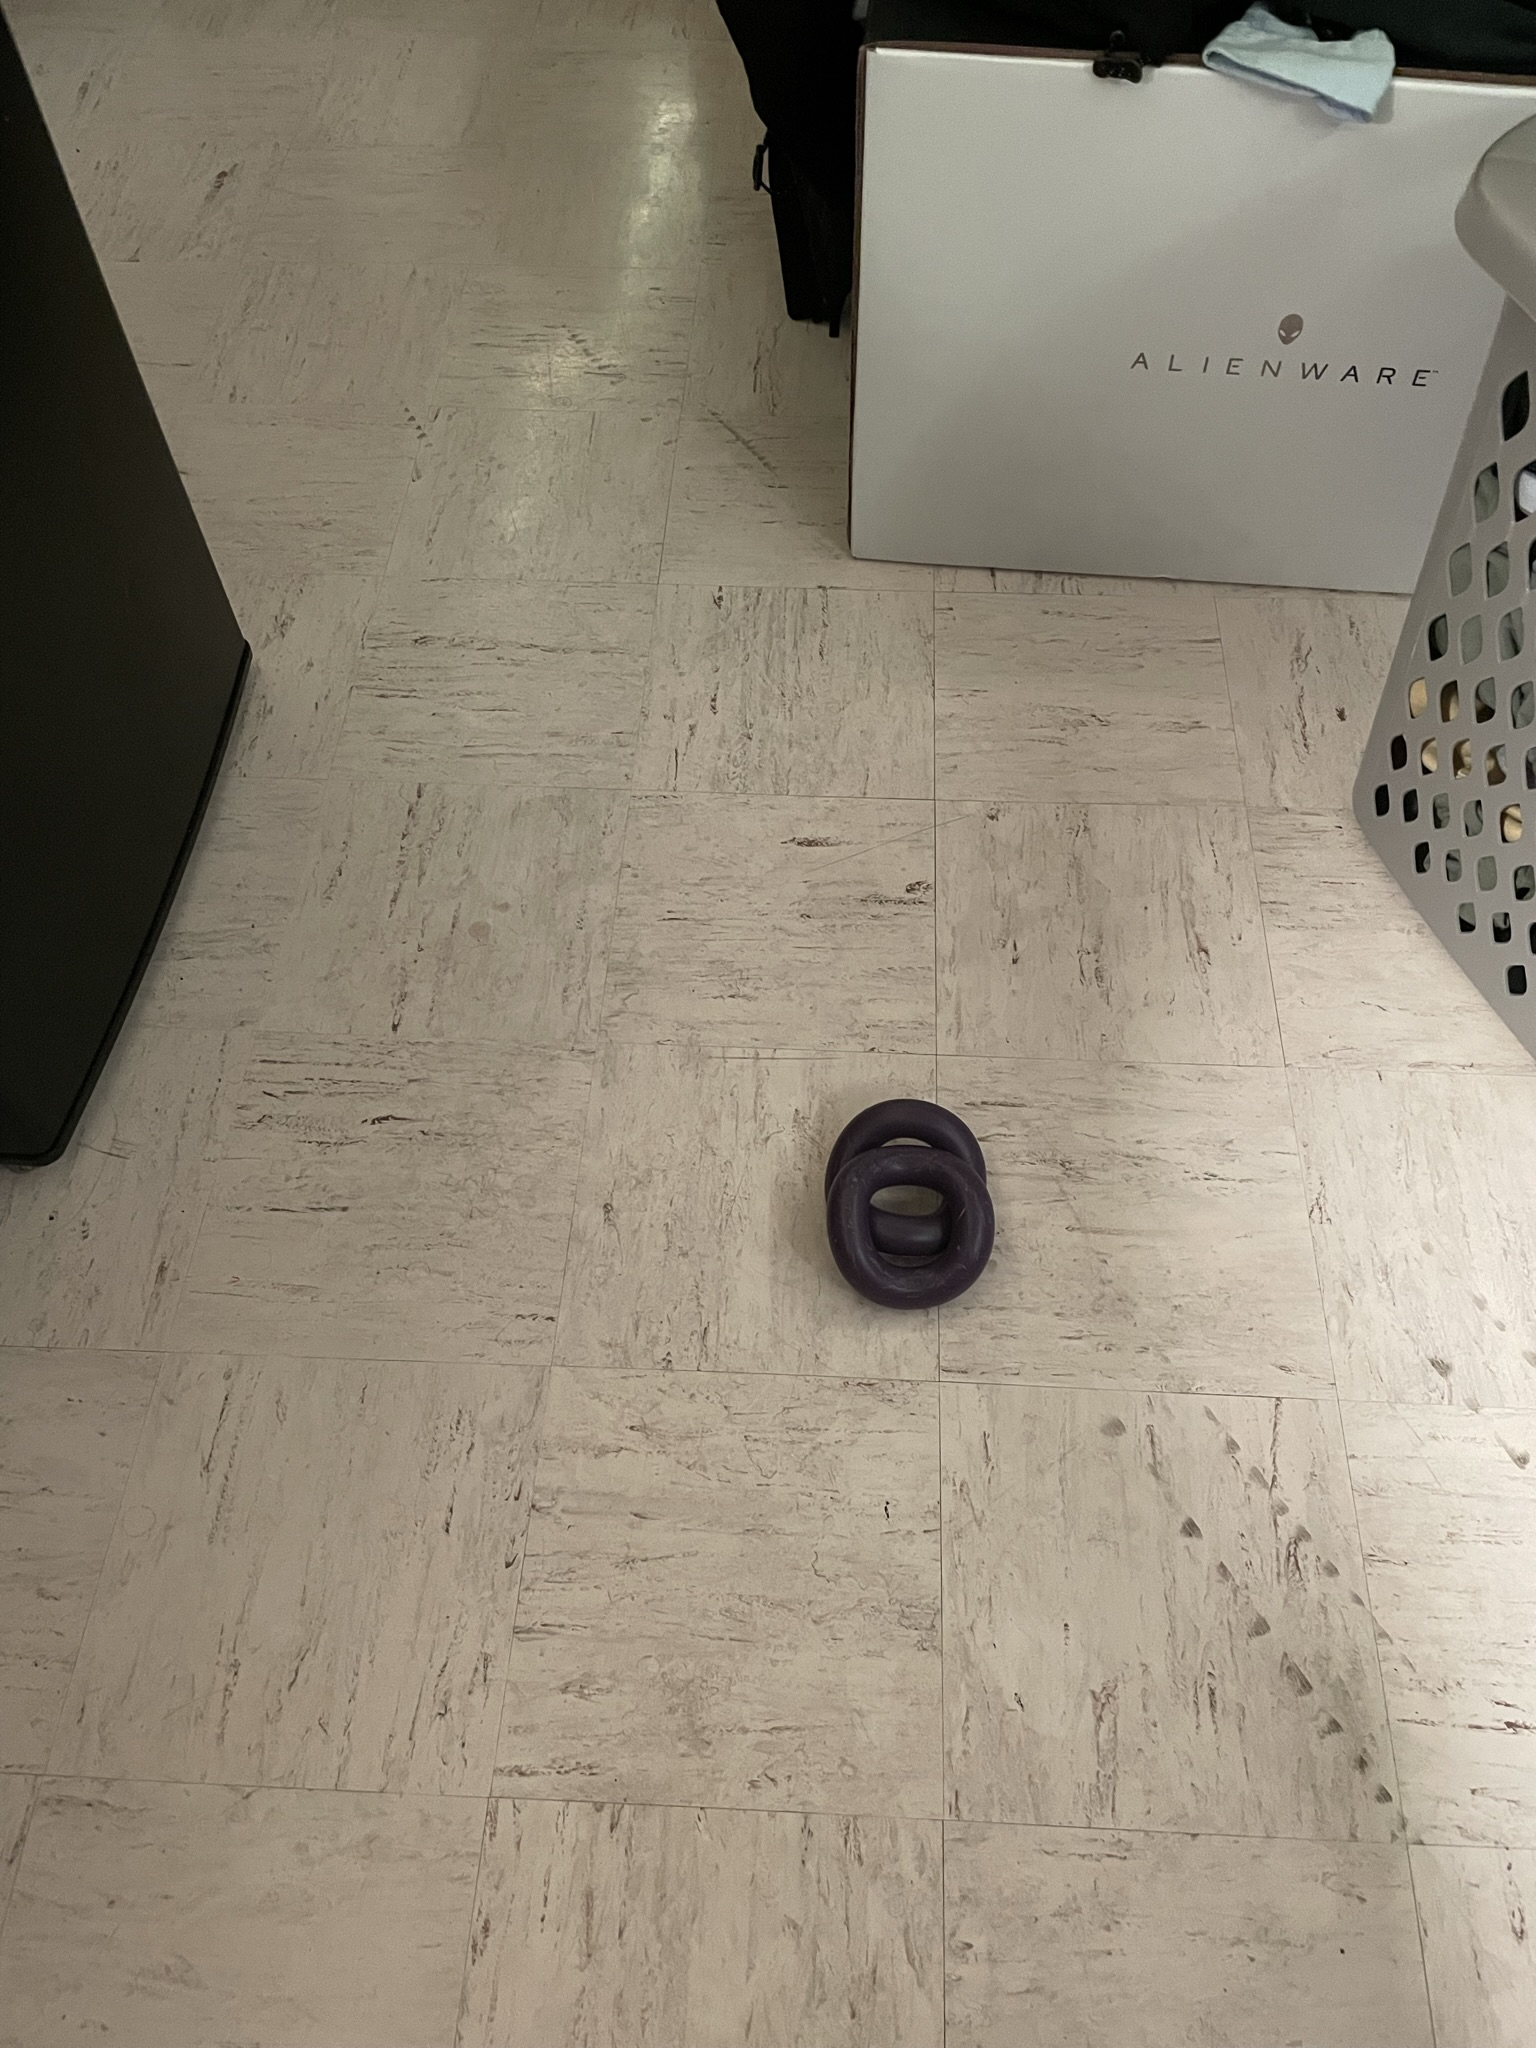ring: (823, 1151, 997, 1311), (824, 1098, 987, 1251)
